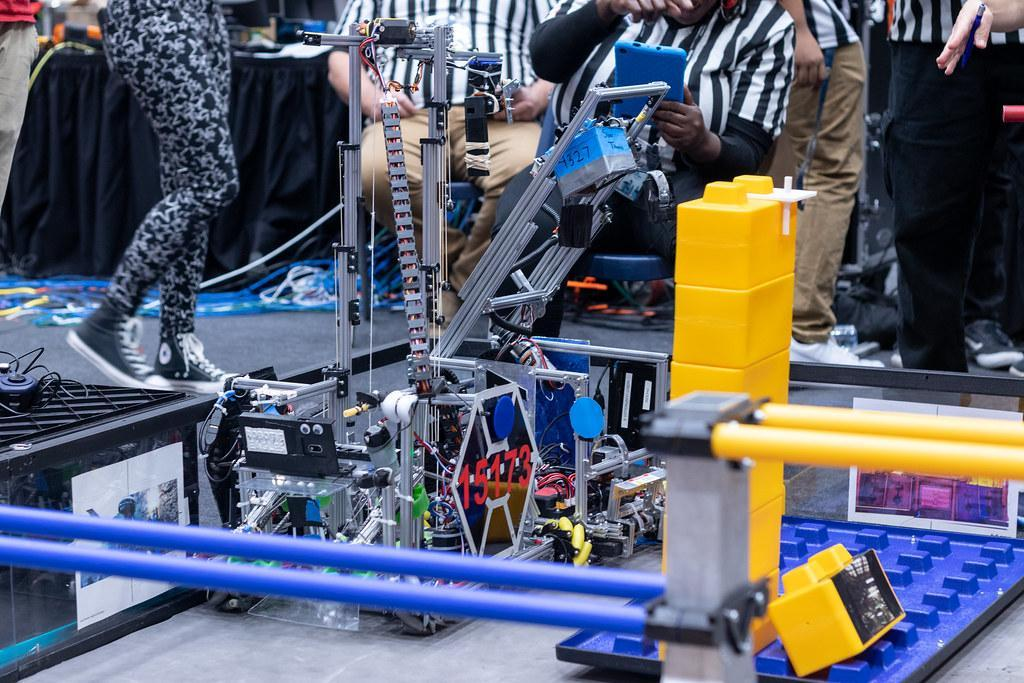robot: (187, 12, 598, 629), (389, 13, 696, 558)
